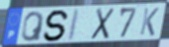7: (118, 7, 139, 39)
I: (66, 8, 81, 43)
K: (138, 7, 160, 37)
Q: (20, 10, 46, 43)
S: (42, 9, 71, 43)
X: (90, 7, 117, 41)
